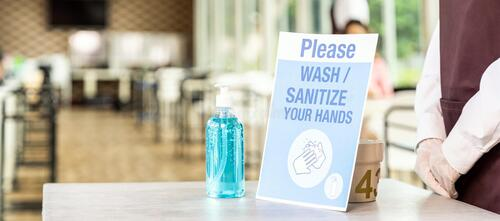sanitizer: (208, 81, 246, 199)
